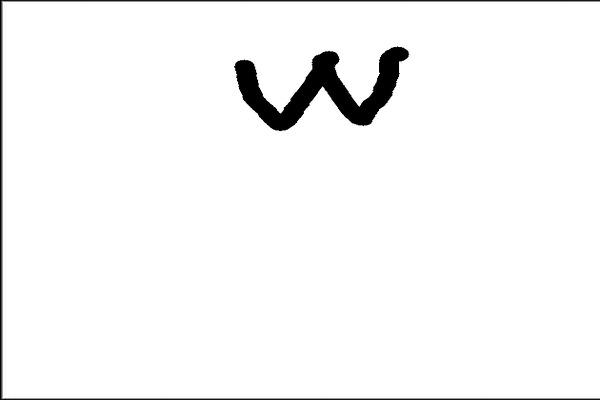w: (217, 35, 437, 139)
